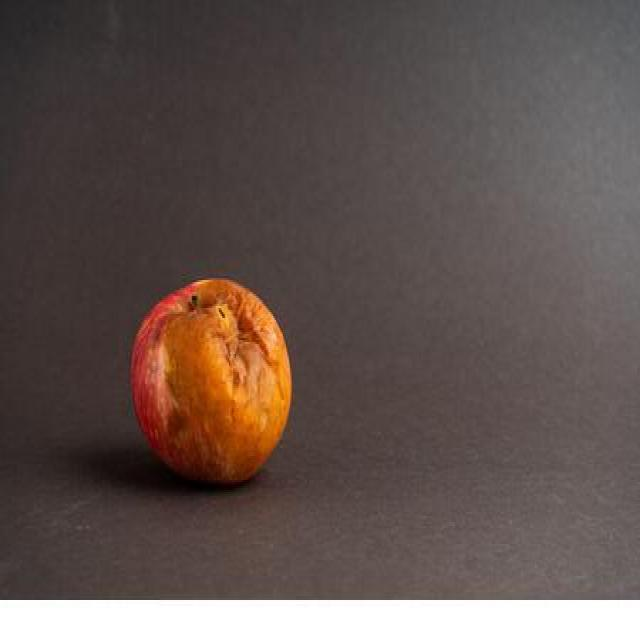Rotten: (131, 280, 296, 491)
